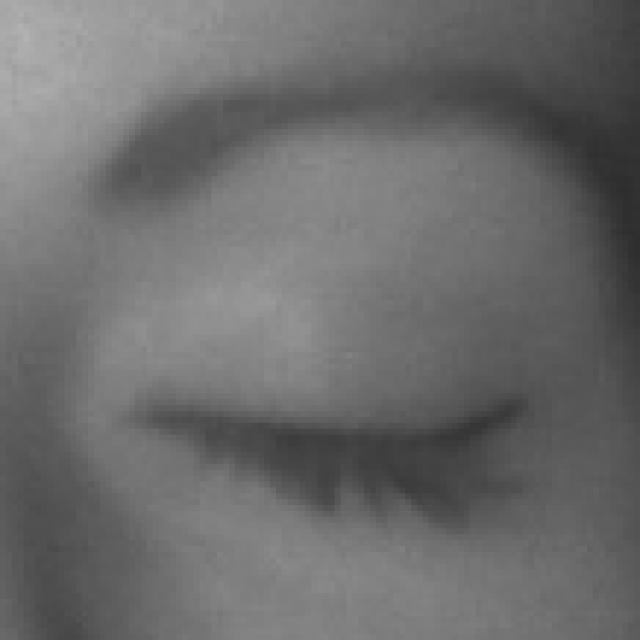Eyeclosed: (139, 224, 551, 632)
